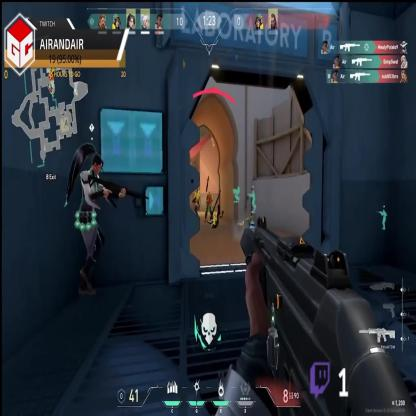enemy: (205, 192, 213, 222), (193, 188, 199, 219)
enemy_head: (195, 186, 198, 194), (208, 192, 211, 196)
